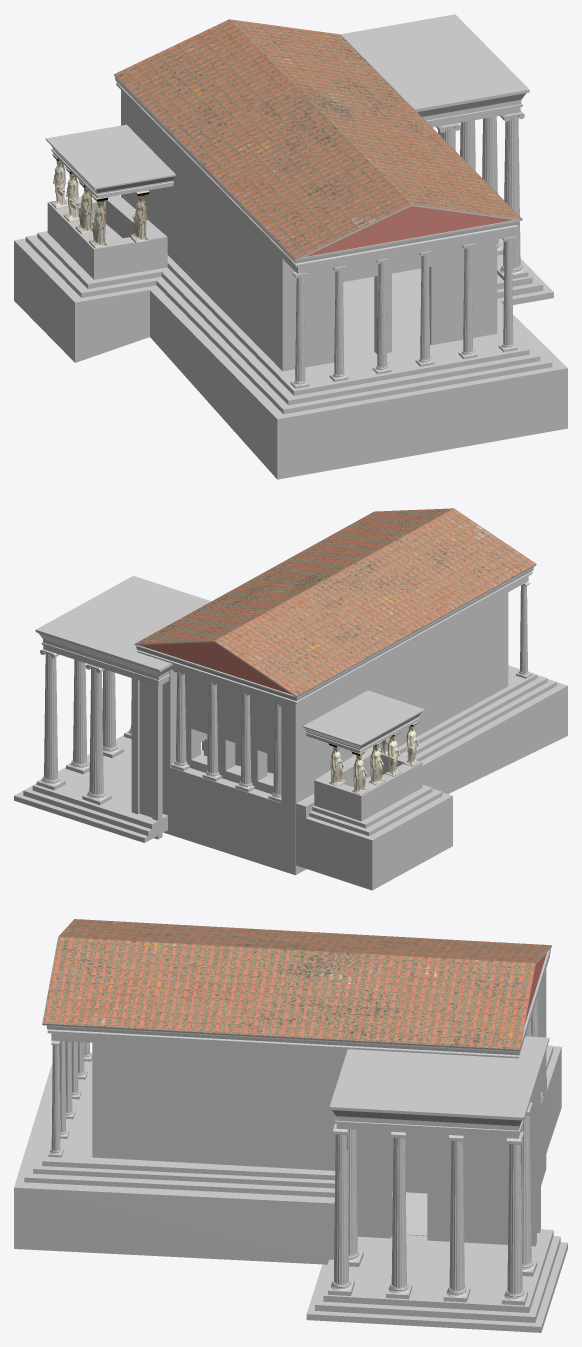
Rendered from Erechthion.fbx.
3 views of the same model, one above another, from view 1: azimuth 30°, elevation 25°; view 2: azimuth 150°, elevation 25°; view 3: azimuth 270°, elevation 25° (orthographic). The views are drawn at different scales.
Visible parts, largest first — view 1: polySurface1914, Acropolis_Cleaned:group2_Acropolis_Cleaned:Group11273; view 2: polySurface1914, Acropolis_Cleaned:group2_Acropolis_Cleaned:Group11273; view 3: polySurface1914.
Boxes of the visible parts, <box> form: polySurface1914: <box>14,14,567,479</box>; Acropolis_Cleaned:group2_Acropolis_Cleaned:Group11273: <box>50,154,149,248</box>; polySurface1914: <box>14,508,567,890</box>; Acropolis_Cleaned:group2_Acropolis_Cleaned:Group11273: <box>328,721,420,794</box>; polySurface1914: <box>14,919,567,1332</box>.
Bounding box in the file's own units: 25 × 14.17 × 25.76.
4 materials, 2 textured.
